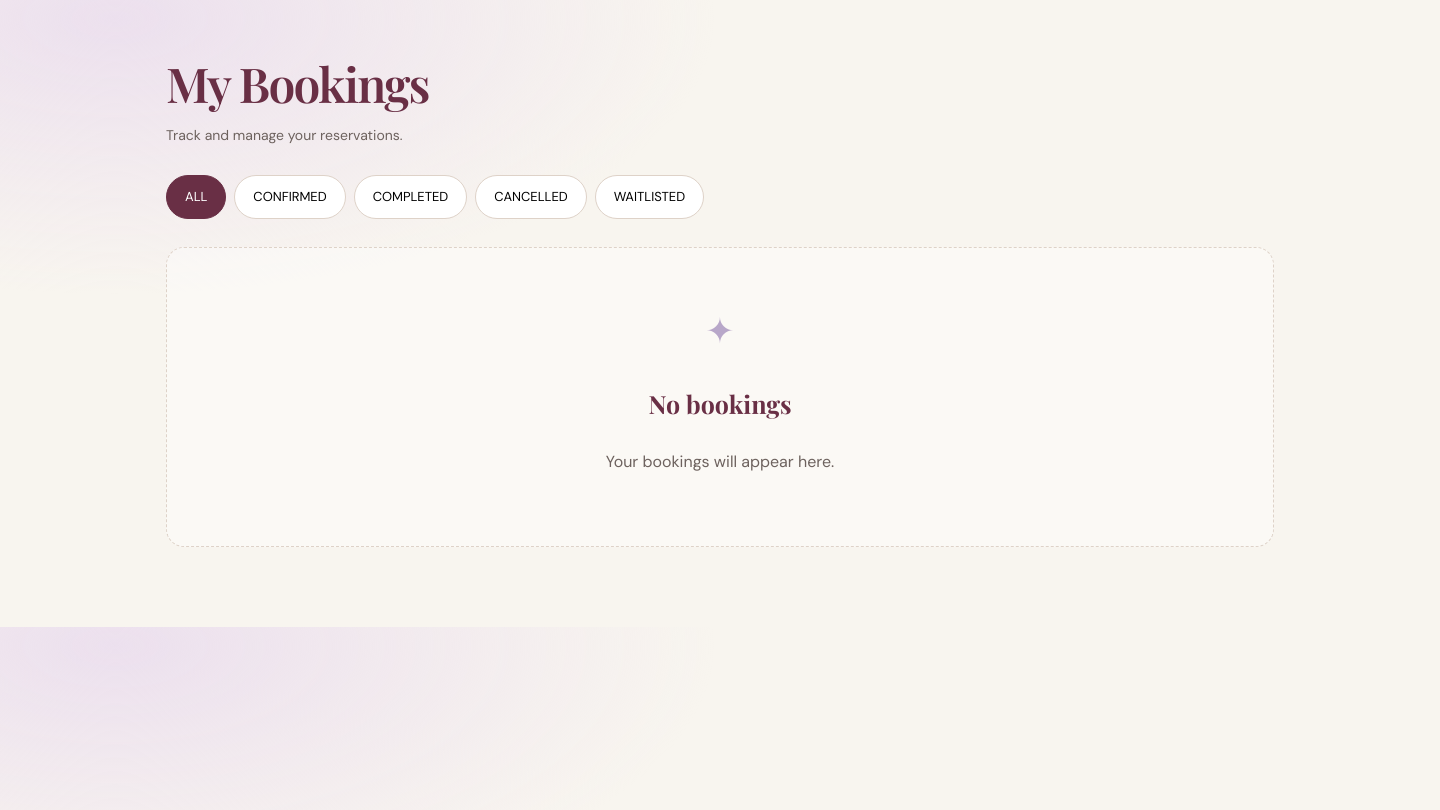
Test: offers waitlist management from the new tab and returns to normal booking filters
Expected: the heading "No bookings" is shown, [648, 388, 792, 420]
Click the button "WAITLISTED" at coordinates (649, 198), box [595, 176, 704, 220]
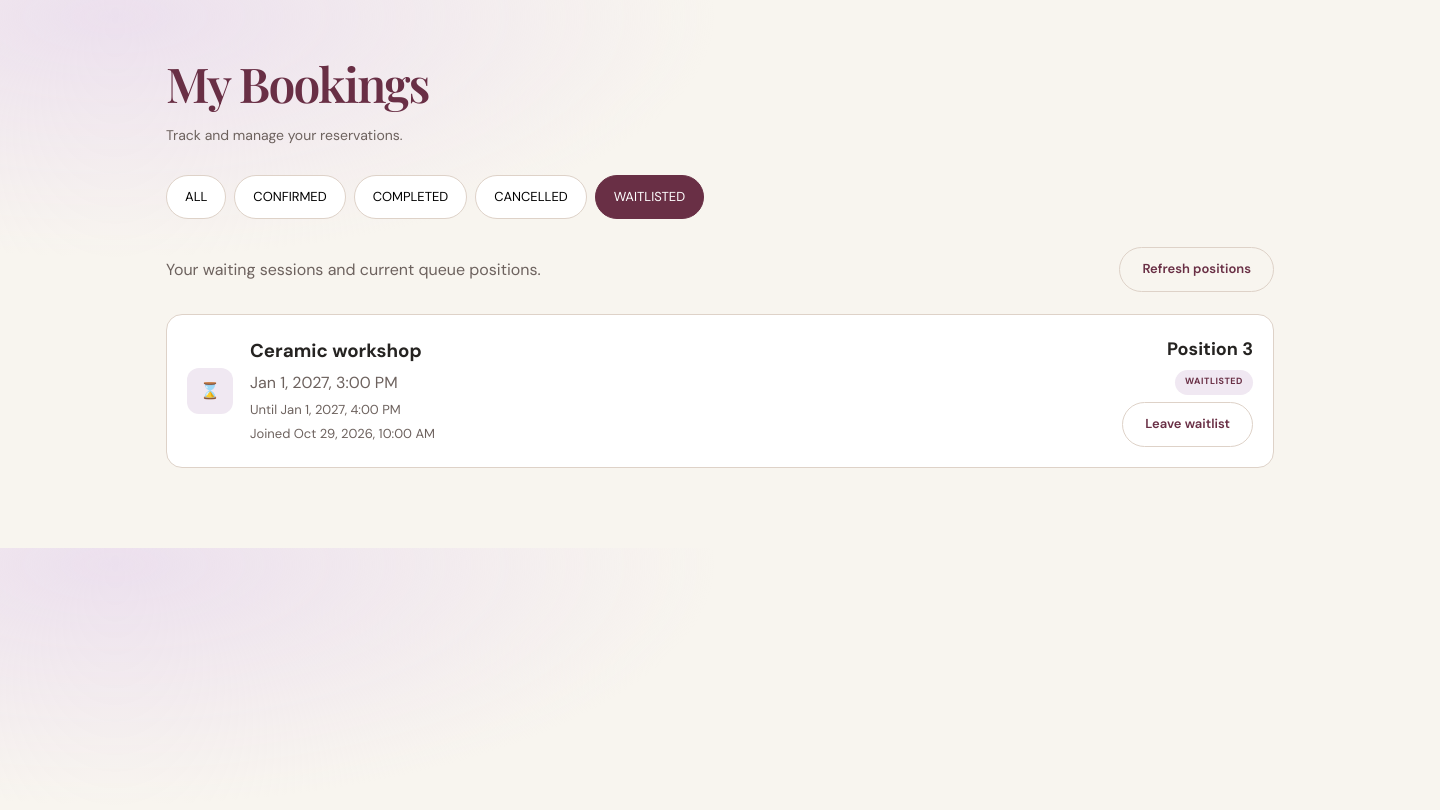
Now the text "Position 3" is shown, box [1167, 335, 1253, 364]
Click the button "CONFIRMED" at coordinates (290, 198), box [234, 176, 346, 220]
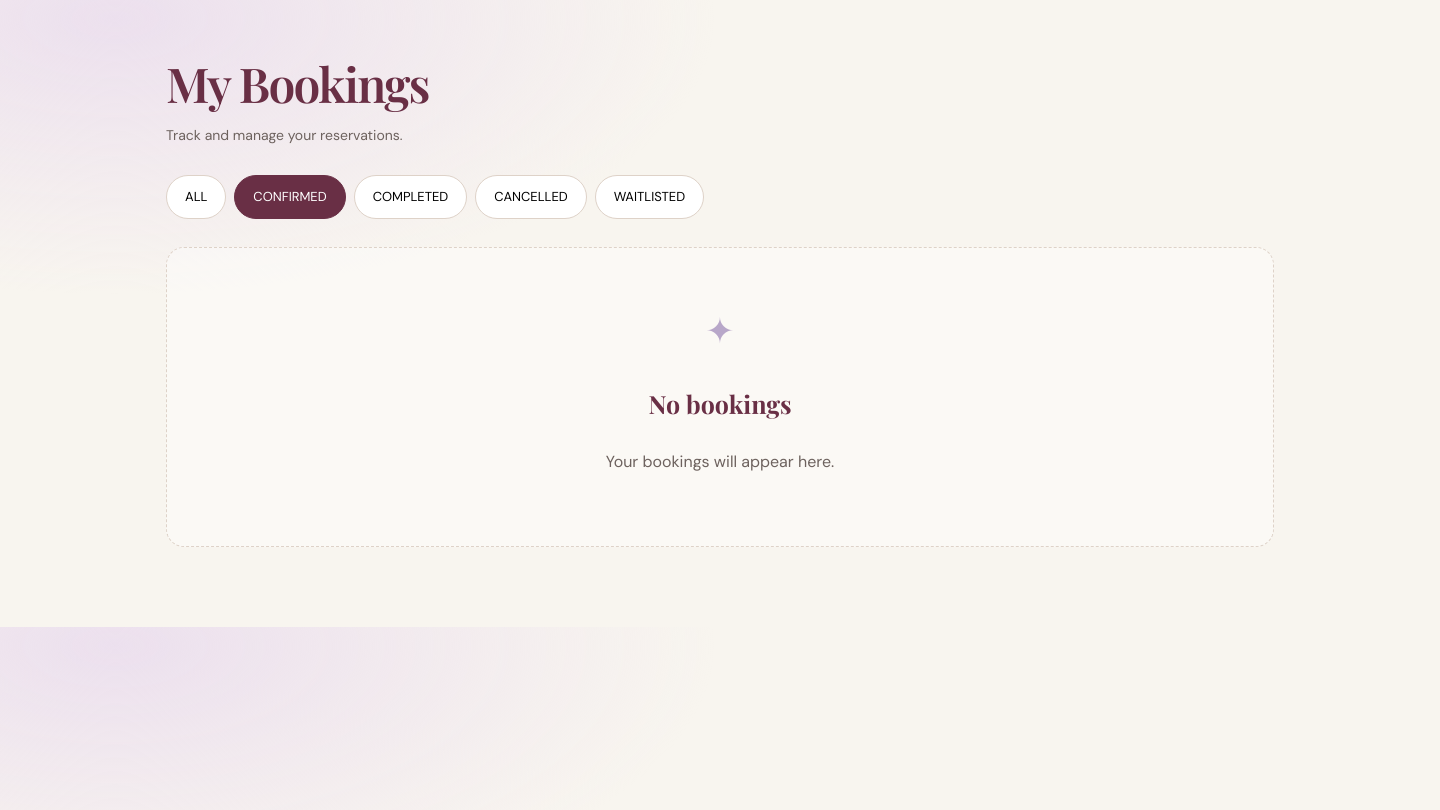
Now the heading "No bookings" is shown, box [648, 388, 792, 420]
Now the text "Position 3" is gone
